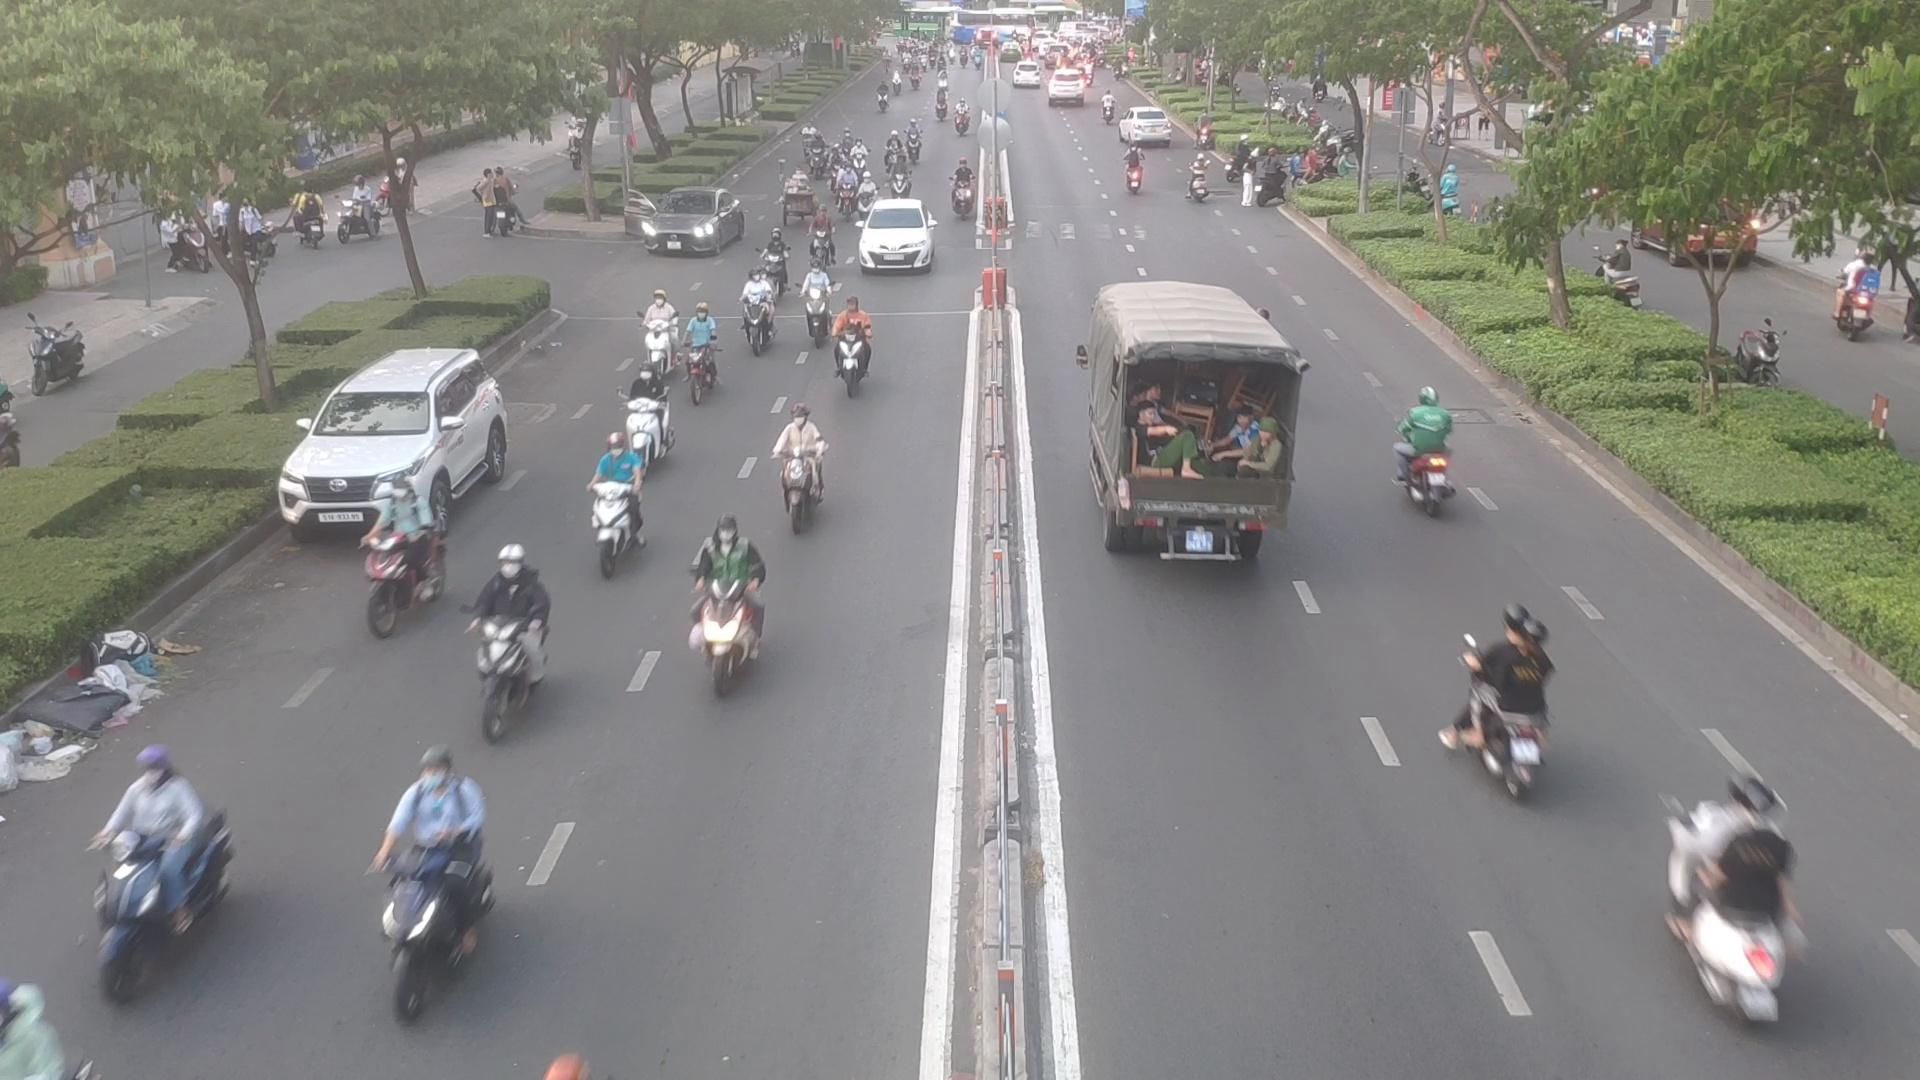car: (1077, 280, 1313, 605), (273, 347, 516, 538), (632, 189, 746, 260), (858, 200, 939, 272)
motorbike: (76, 741, 235, 1033), (1669, 756, 1797, 1036), (378, 748, 483, 985), (469, 535, 579, 738), (1465, 593, 1543, 806), (676, 517, 764, 687), (1379, 371, 1456, 524), (375, 488, 443, 640), (771, 419, 828, 543), (591, 446, 641, 571), (836, 291, 876, 397), (628, 375, 670, 465), (753, 223, 795, 305), (637, 293, 676, 375), (736, 270, 770, 355), (676, 307, 711, 390), (800, 264, 832, 338), (952, 160, 981, 216), (810, 211, 836, 268), (1185, 154, 1211, 208), (886, 161, 914, 204), (1226, 133, 1253, 178), (1122, 144, 1145, 193), (856, 170, 877, 222), (906, 120, 926, 169), (833, 167, 852, 214), (800, 120, 814, 167), (853, 138, 868, 175), (814, 135, 825, 178), (829, 142, 840, 189), (887, 135, 898, 162)
